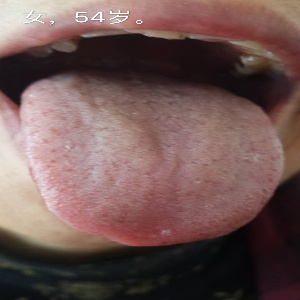st: (18, 84, 287, 245)
